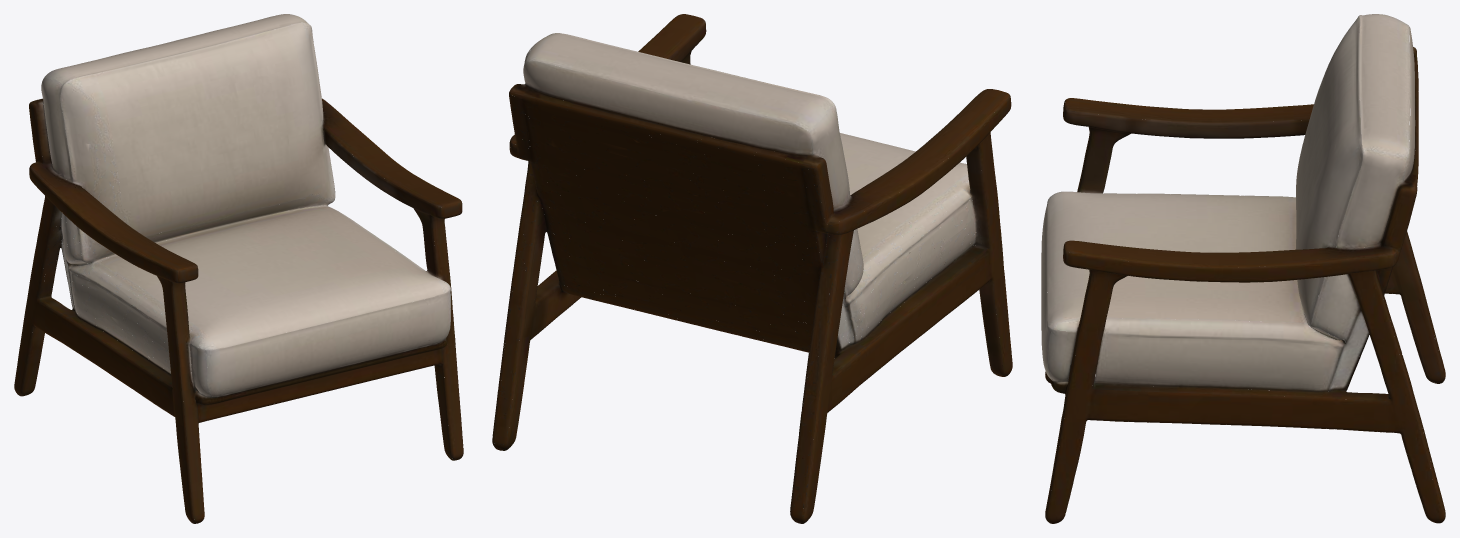
Rendered from chair.glb.
3 views of the same model, side by side, from view 1: azimuth 30°, elevation 25°; view 2: azimuth 150°, elevation 25°; view 3: azimuth 270°, elevation 25° (orthographic). The views are drawn at different scales.
Visible parts, largest first — view 1: geometry_0; view 2: geometry_0; view 3: geometry_0.
Boxes of the visible parts, x1,y1,x2,y2 form: geometry_0: (14,14,463,523); geometry_0: (492,14,1012,523); geometry_0: (1041,14,1445,523).
Bounding box in the file's own units: 0.8204 × 0.9 × 0.8754.
1 material, 1 textured.
